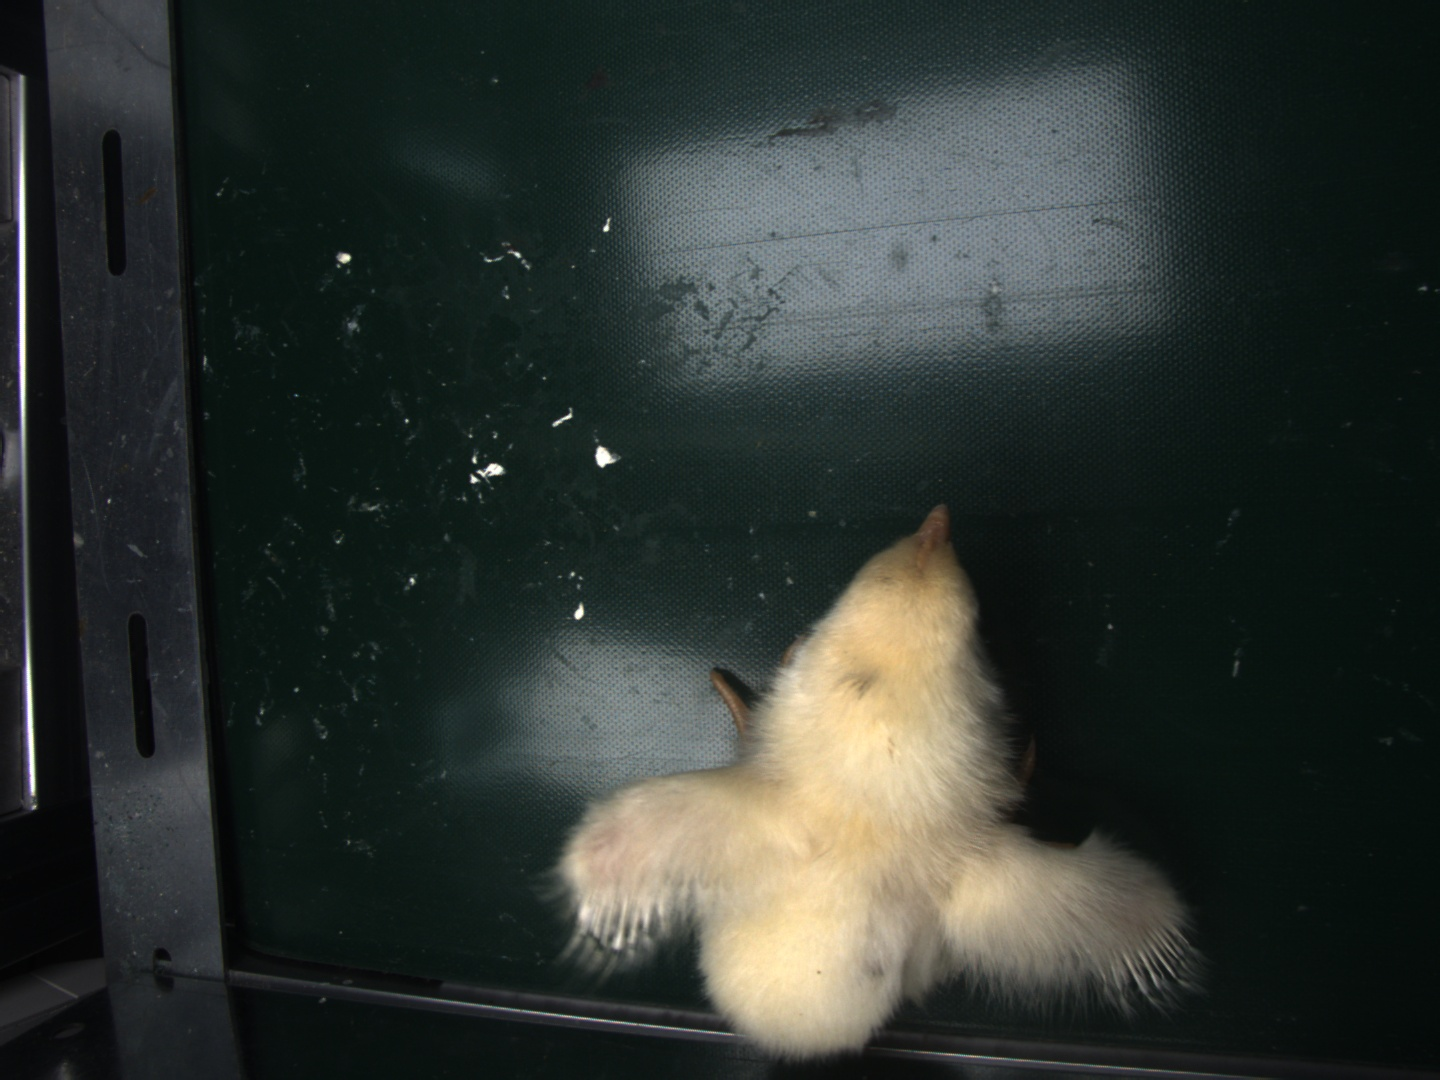male: (1100, 920, 1193, 997)
